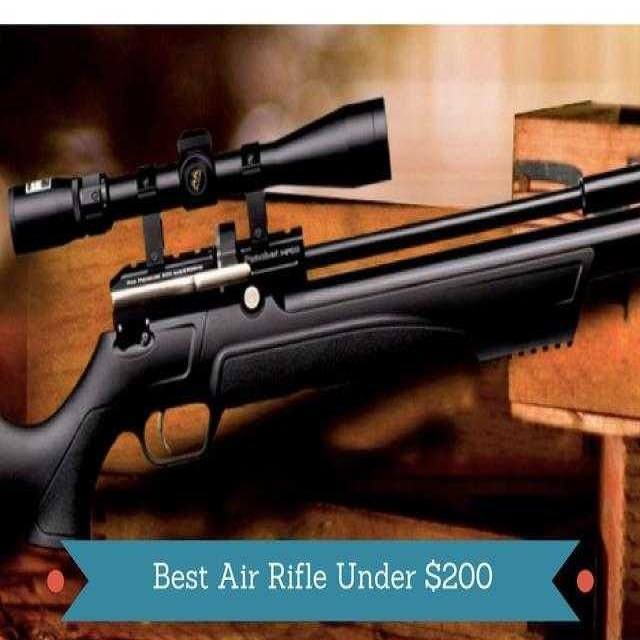heavyweapon: (14, 81, 624, 529)
